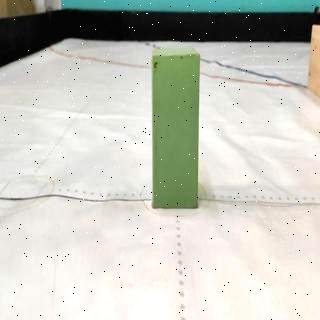greenbox: (153, 46, 199, 208)
